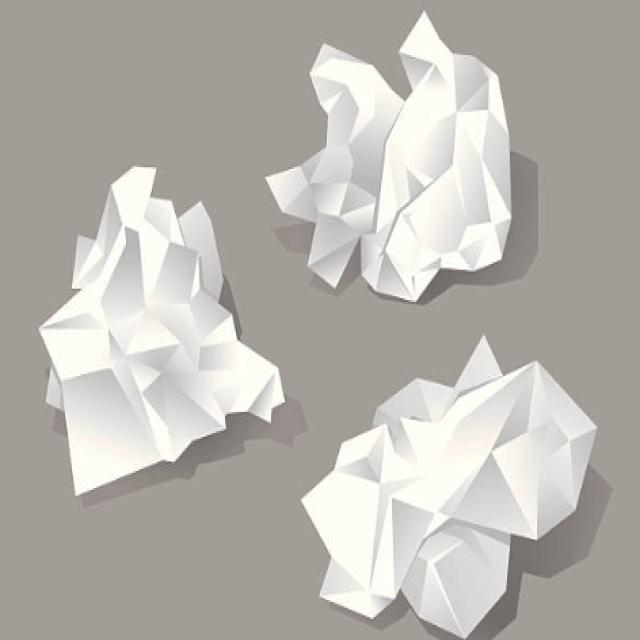KertasBekas: (300, 332, 598, 638), (36, 162, 284, 496), (264, 7, 512, 304)
